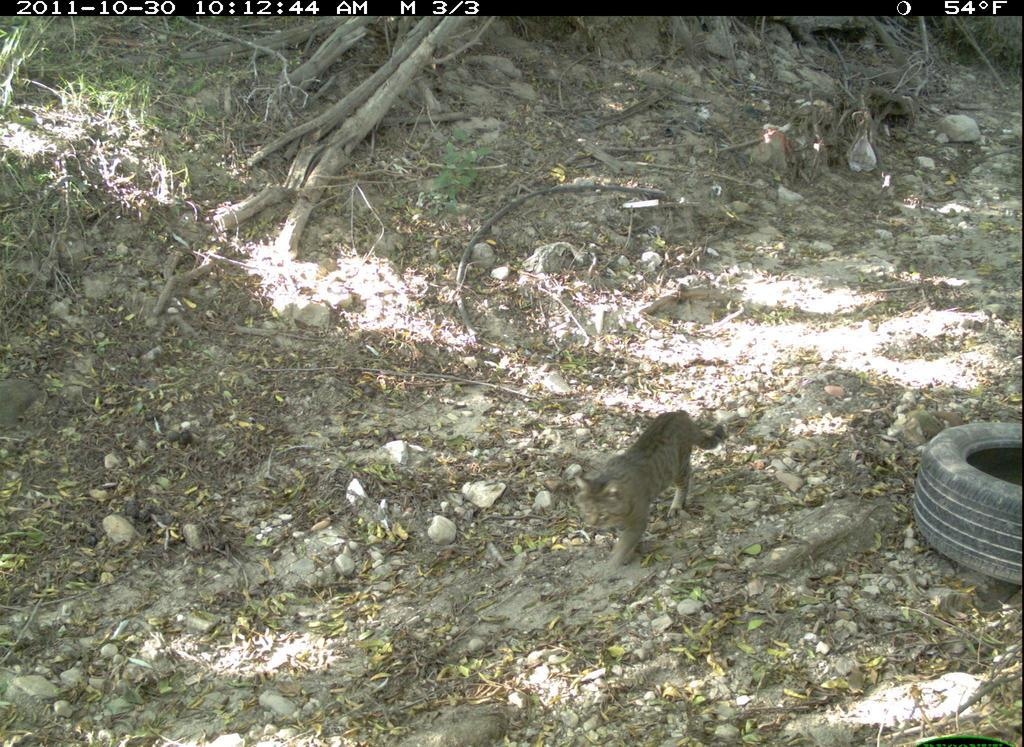cat: (570, 404, 742, 574)
